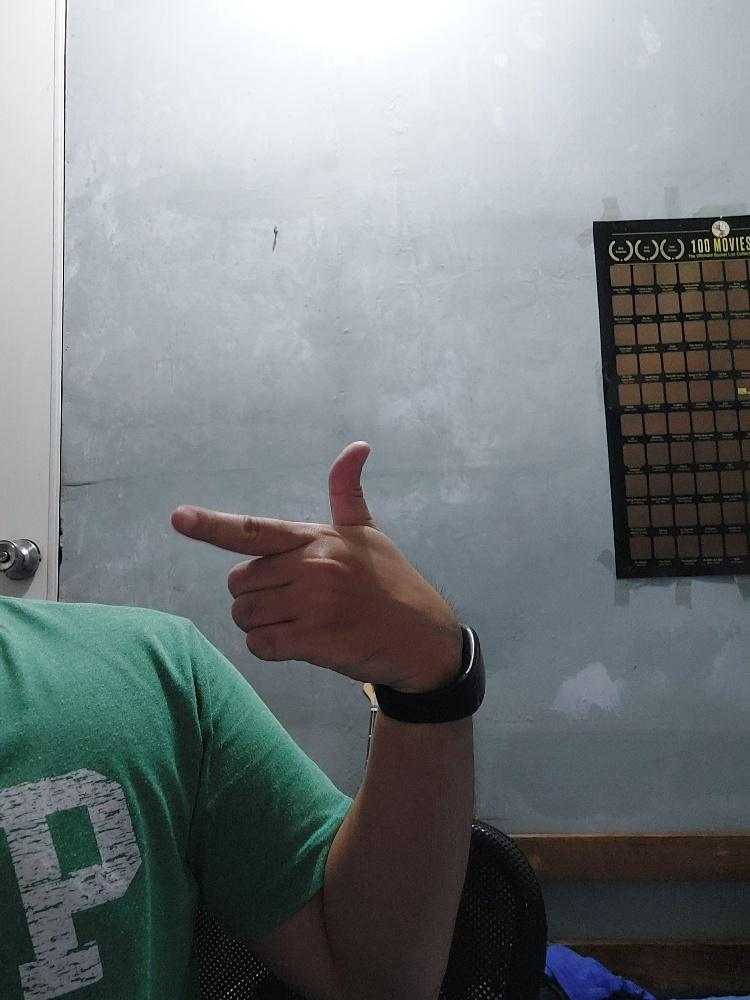g: (165, 440, 431, 677)
